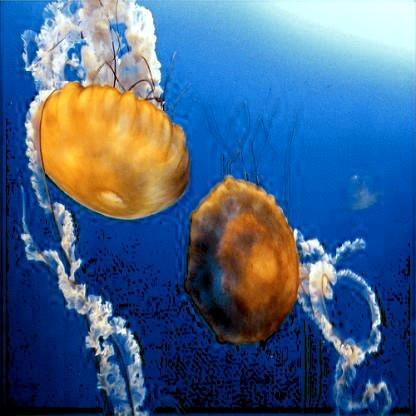Dressed: (22, 5, 190, 414), (182, 171, 393, 411)
